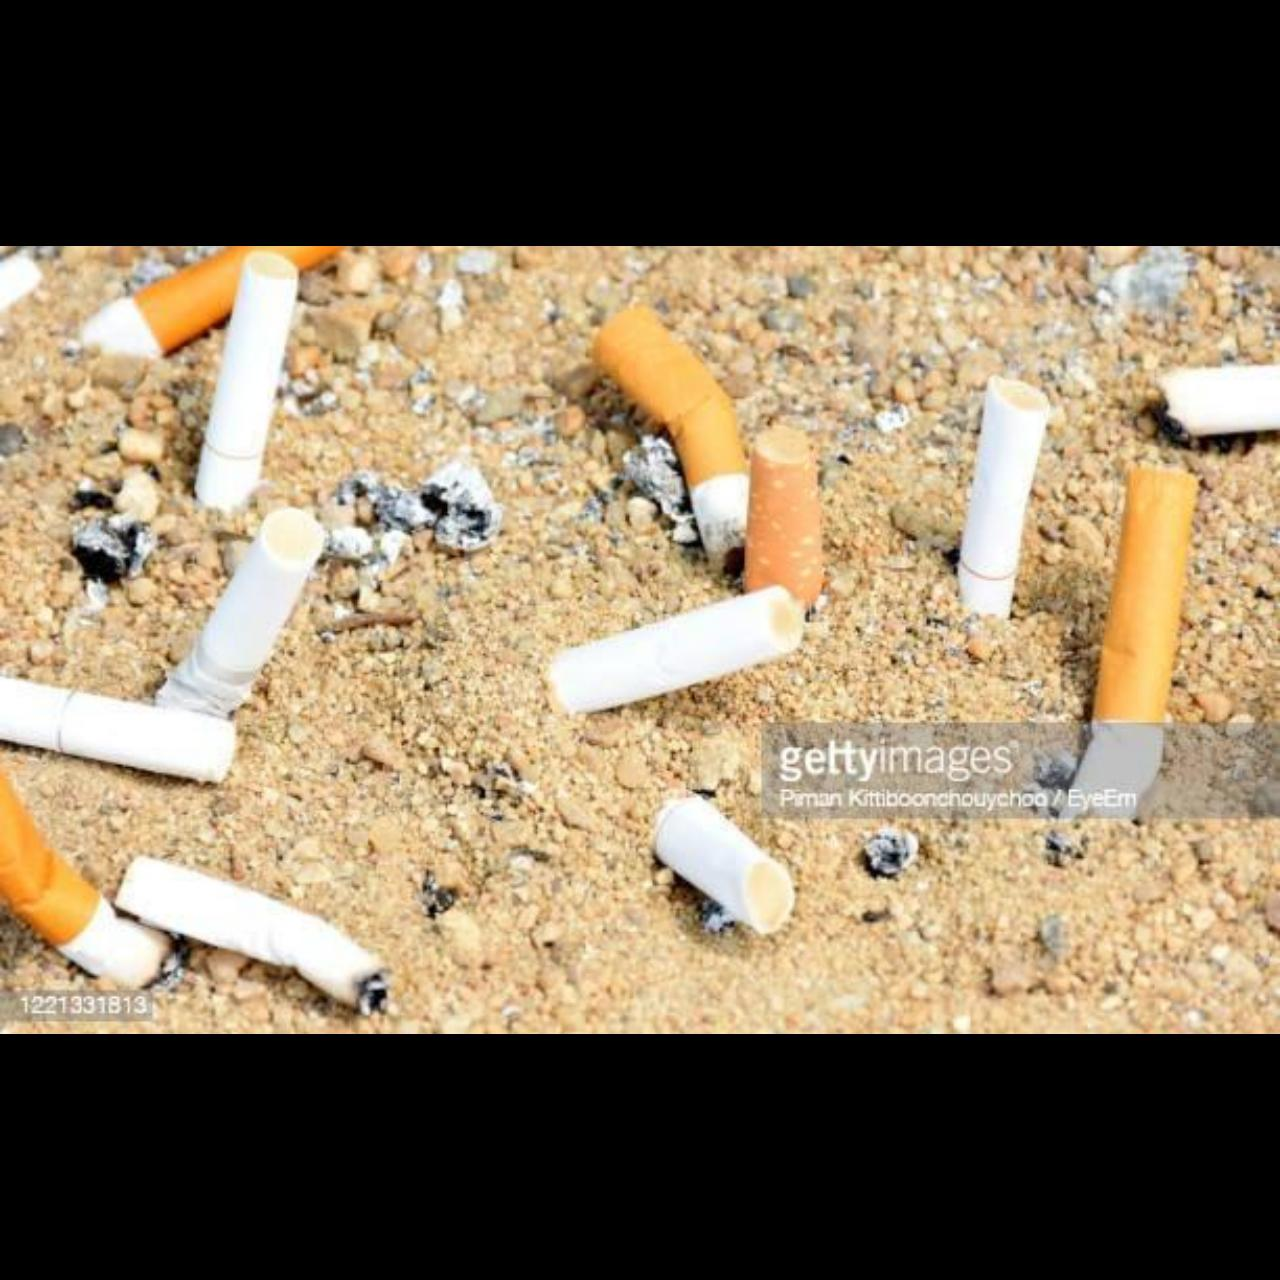cigarettes_butts: (115, 857, 393, 1020), (1071, 468, 1198, 797), (591, 305, 749, 556), (0, 767, 170, 988), (155, 506, 325, 716), (547, 587, 805, 715), (82, 246, 345, 356), (196, 251, 297, 510), (0, 679, 236, 783), (958, 375, 1050, 620), (656, 801, 795, 934), (744, 425, 823, 610), (1158, 366, 1280, 436)
